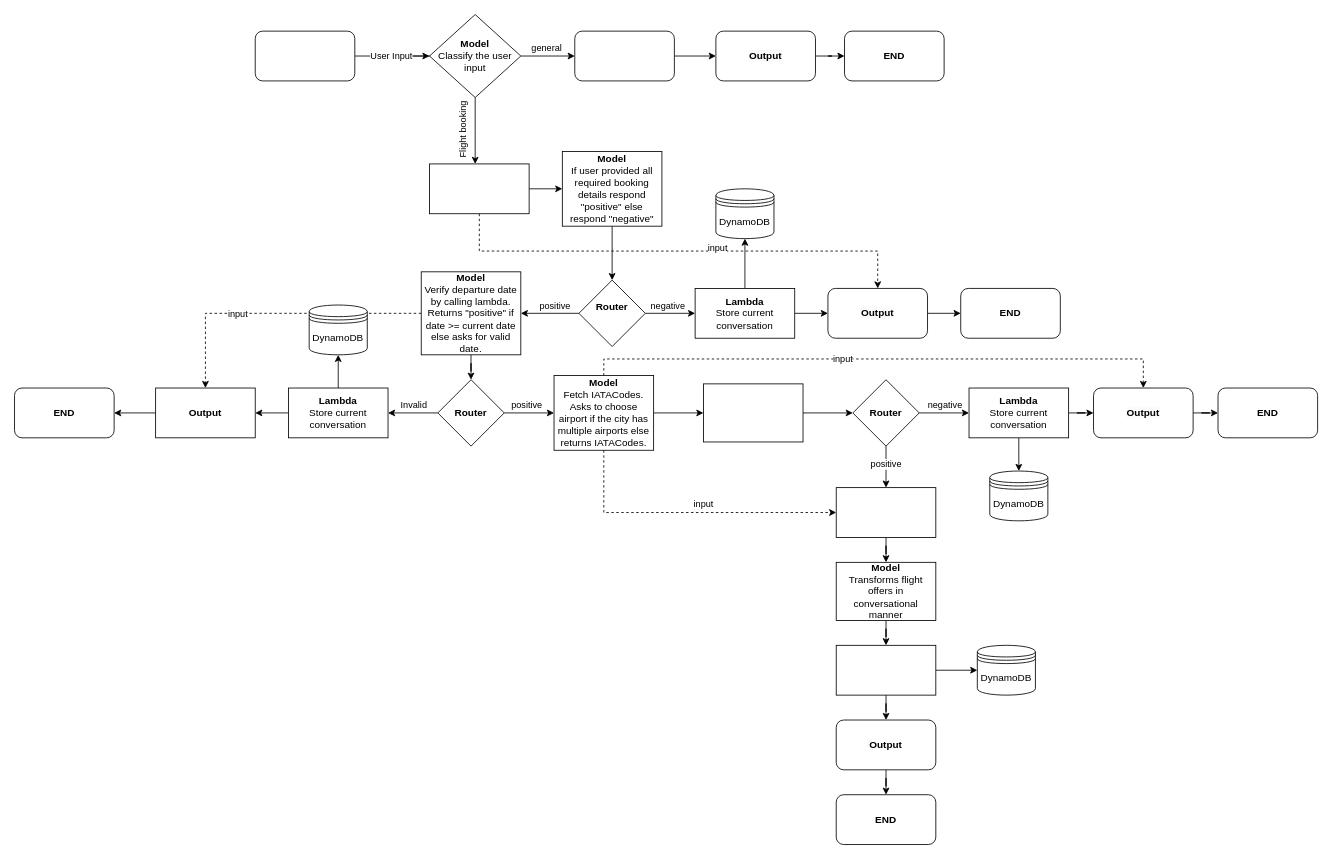
The diagram is 1332 pixels wide and 859 high, and some of its shapes have lost their labels. The shapes that lost their labels are listed below. From the top down, each one's centre as x and y in pixels, then its label:
At (x=304, y=55): "START".
At (x=624, y=55): "Model Response Task: Respond to the user question".
At (x=479, y=188): "Model Extract and get the required booking details from the user.".
At (x=753, y=412): "Model Classify into negative if input asks to choose else classify into negative".
At (x=885, y=512): "Lambda Call_Amadeus".
At (x=885, y=669): "Lambda Stores conversation and passes model output".
